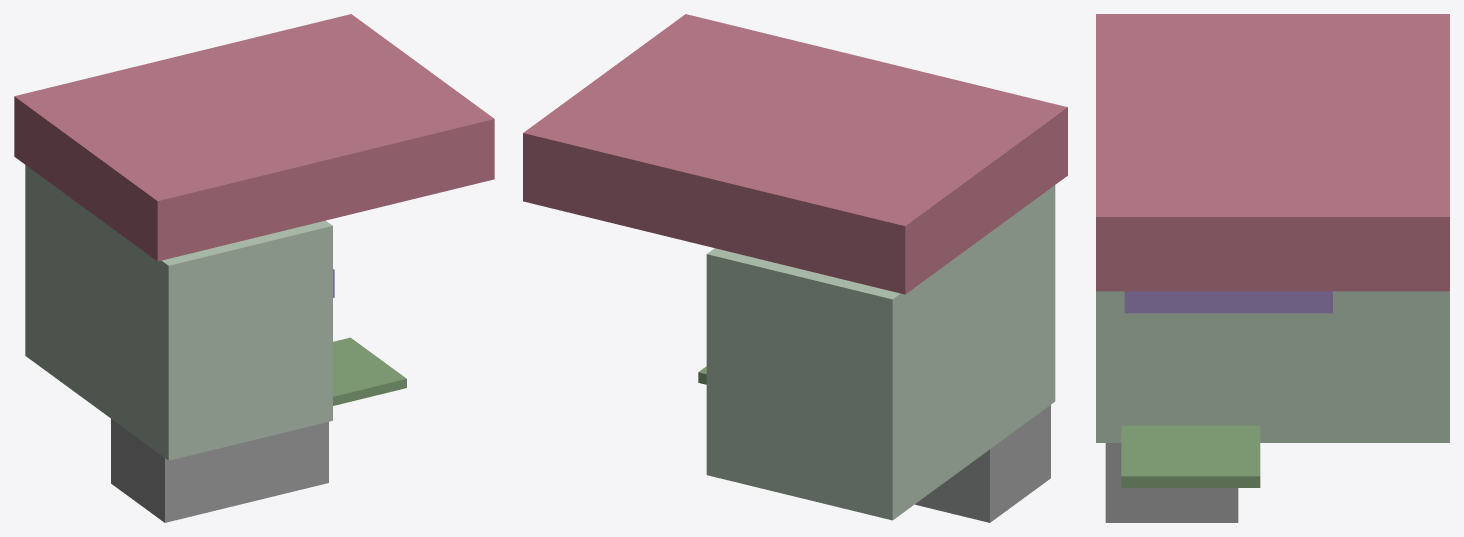
3 renders of one model, left to right at view 1: azimuth 30°, elevation 25°; view 2: azimuth 150°, elevation 25°; view 3: azimuth 270°, elevation 25°, orthographic. The views are drawn at different scales.
Visible parts, largest first — view 1: world; view 2: world; view 3: world.
Part boxes in pixels (x1,y1,x2,y2): world: (14, 14, 494, 522); world: (523, 14, 1067, 522); world: (1096, 14, 1449, 522).
Bounding box in the file's own units: 7.6 × 7.05 × 5.6.
